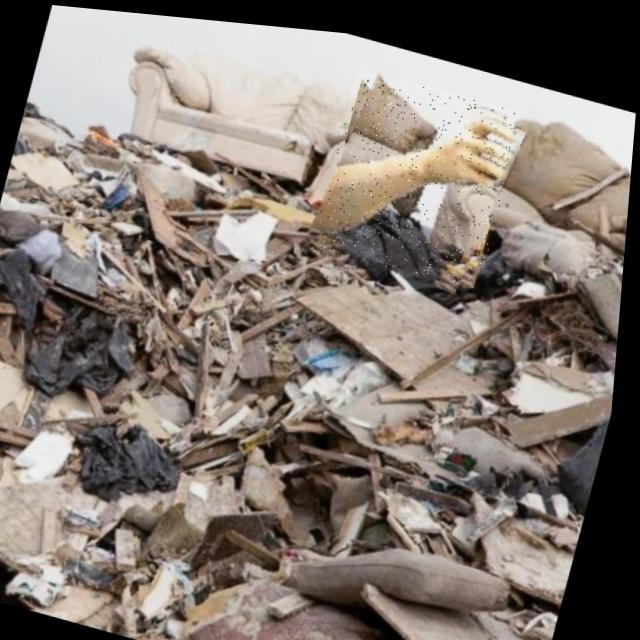Person in Rubble: (312, 56, 527, 287)
